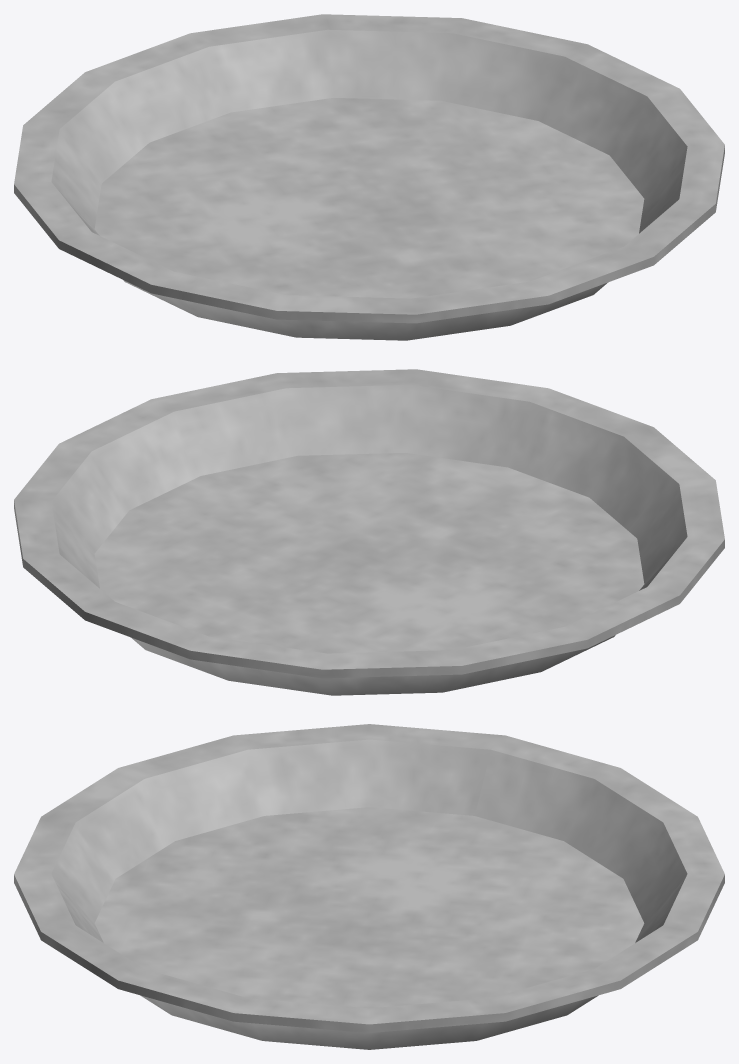
The model's file is DISH_low.fbx.
3 renders of one model, top to bottom at view 1: azimuth 30°, elevation 25°; view 2: azimuth 150°, elevation 25°; view 3: azimuth 270°, elevation 25°, orthographic.
Parts seen in each view (by area): view 1: DISH_low; view 2: DISH_low; view 3: DISH_low.
Boxes of the visible parts, box(x1,y1,x2,y2) form: DISH_low: box(14, 14, 724, 340); DISH_low: box(14, 369, 724, 695); DISH_low: box(14, 724, 724, 1049).
Bounding box in the file's own units: 30.35 × 2.72 × 30.35.
